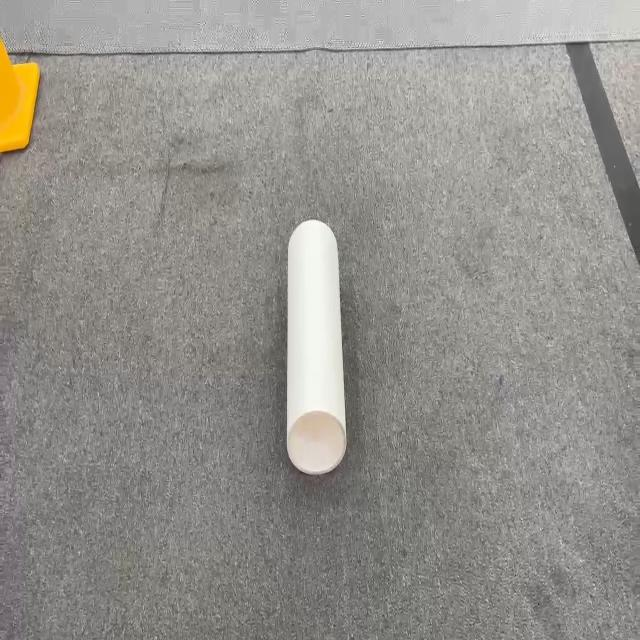coral: (285, 217, 347, 475)
